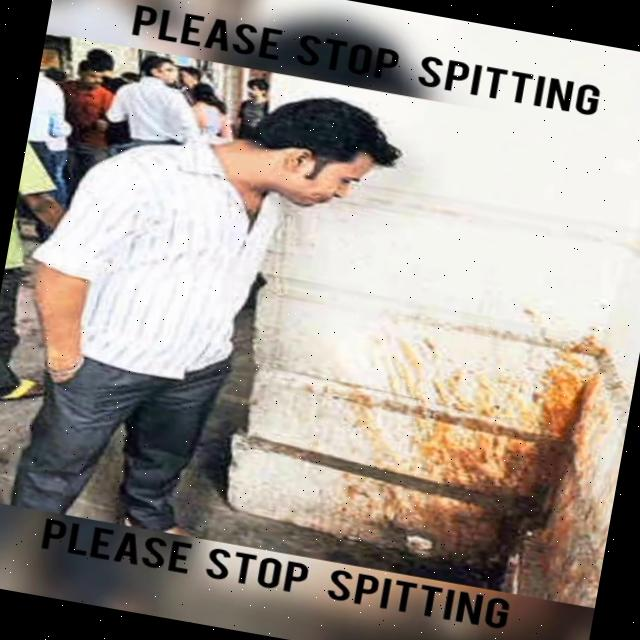spit: (275, 127, 607, 555)
